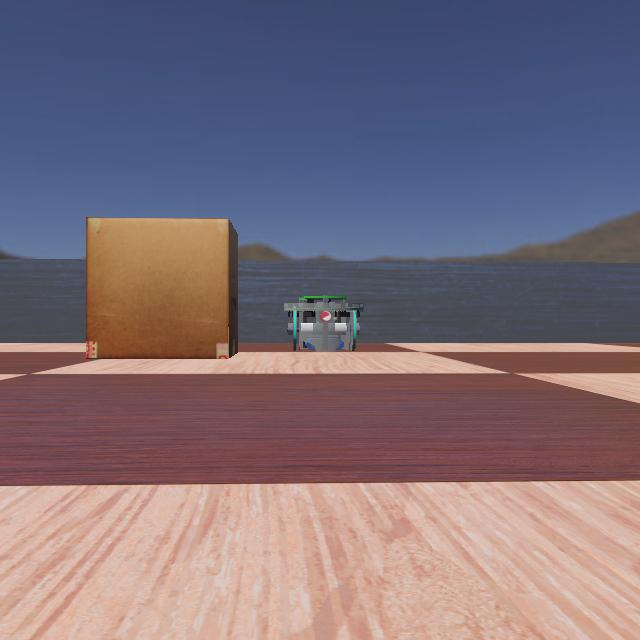cardboard-box: (79, 216, 243, 358)
